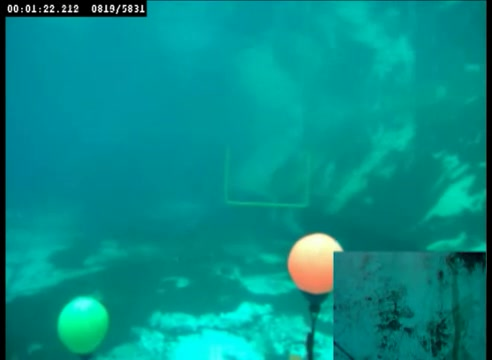channel: (220, 143, 316, 208)
